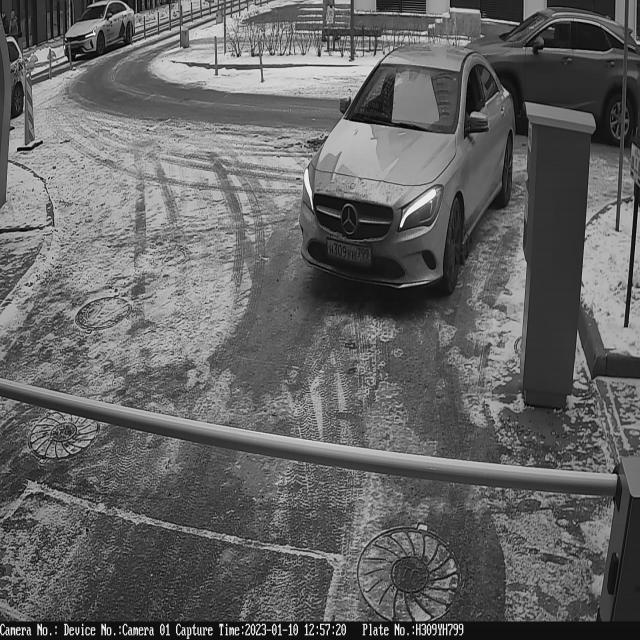car-plate-numbers: (325, 235, 374, 268)
